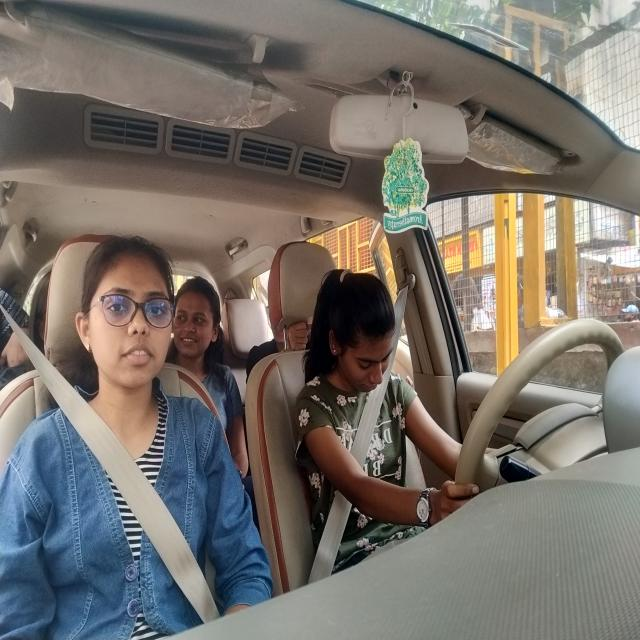drowsy: (313, 270, 406, 404)
person: (81, 248, 169, 380), (176, 272, 218, 370)
